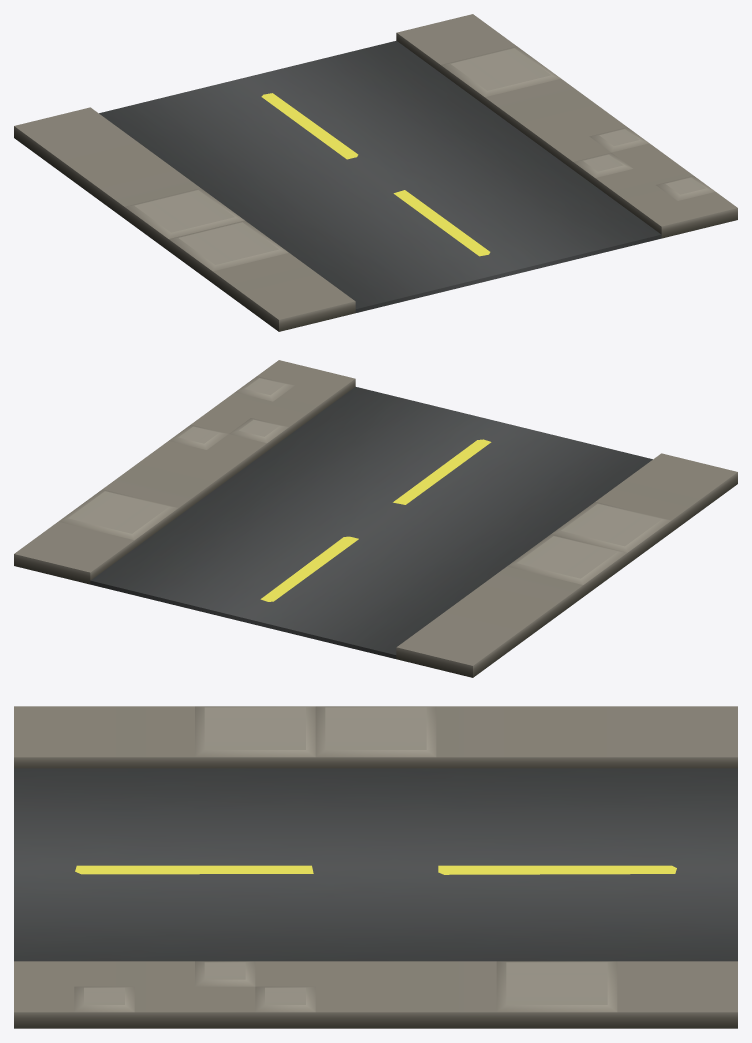
Rendered from Road_1B.fbx.
3 renders of one model, top to bottom at view 1: azimuth 30°, elevation 25°; view 2: azimuth 150°, elevation 25°; view 3: azimuth 270°, elevation 25°, orthographic. The views are drawn at different scales.
Parts seen in each view (by area): view 1: Road_1B; view 2: Road_1B; view 3: Road_1B.
Part boxes in pixels (bbox=[...]): Road_1B: bbox=[14, 14, 737, 331]; Road_1B: bbox=[14, 360, 737, 677]; Road_1B: bbox=[14, 706, 737, 1028].
Size of the model in its own units: 12 by 0.3565 by 12.
